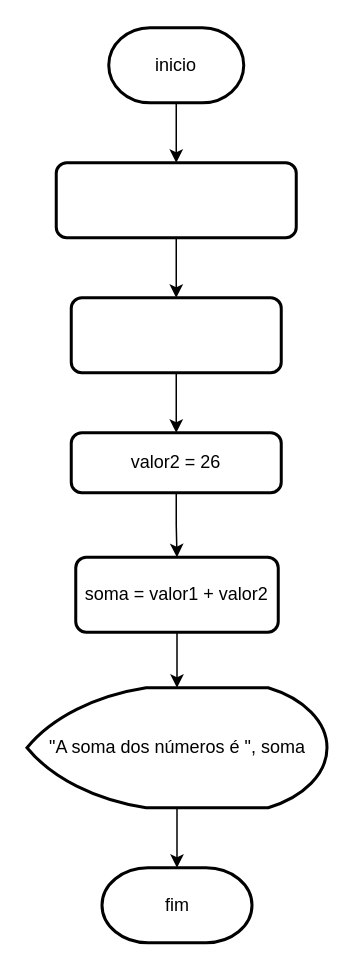
The diagram is 354 pixels wide and 969 high, and some of its shapes have lost their labels. Here are the shapes that lost their labels. From the top down, the box of each, then its label:
(54, 160, 297, 238): inteiro valor1, valor2, soma
(69, 296, 282, 374): valor1 = 13
